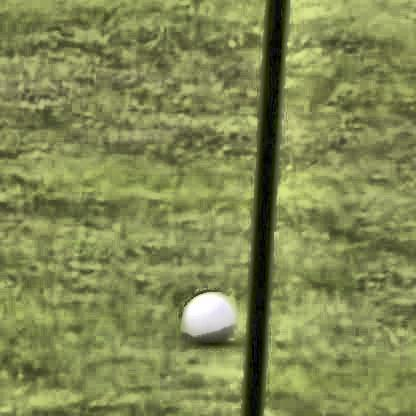golfball: (180, 289, 234, 340)
